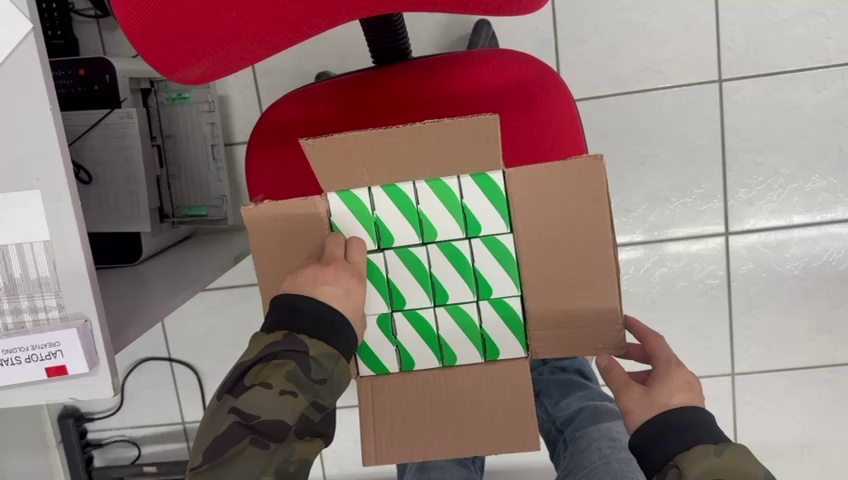divisor: (368, 179, 427, 249), (412, 173, 469, 245), (457, 169, 514, 239), (468, 231, 523, 301), (323, 186, 381, 252), (425, 238, 479, 307), (433, 301, 488, 368), (477, 295, 529, 362), (393, 306, 445, 372), (383, 245, 434, 312), (353, 311, 401, 378), (359, 251, 393, 315)
